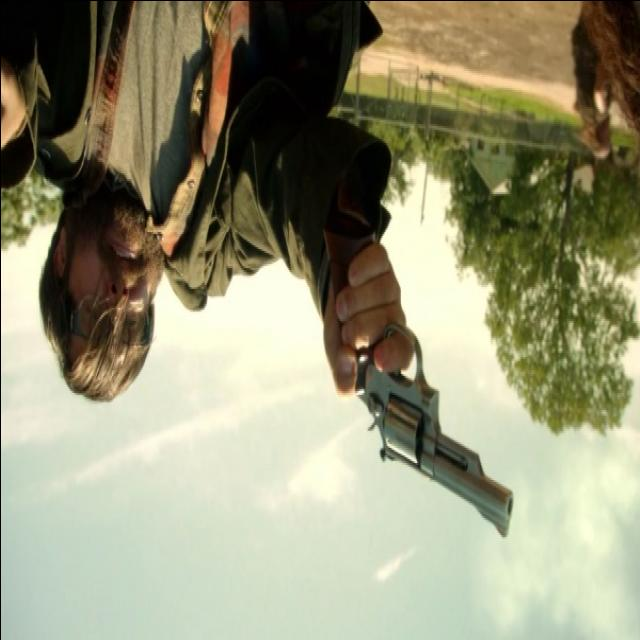weapons: (322, 266, 520, 550)
